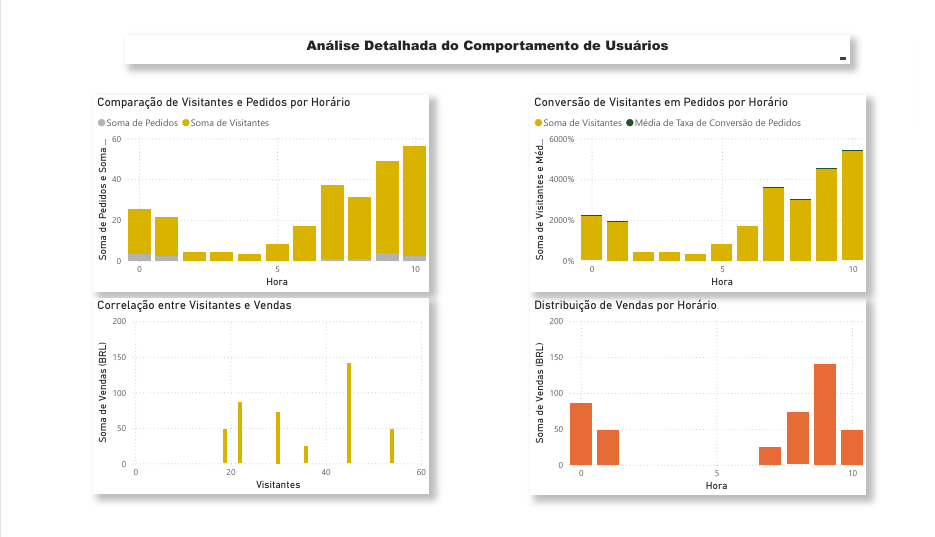

What the dashboard file says about the page in this screenshot:
{"tool":"powerbi","page":{"name":"Página 2","canvas":[1280,720],"ordinal":1},"visuals":[{"type":"columnChart","title":"Comparação de Visitantes e Pedidos por Horário","fields":{"Category":["Pedido Feito.Hora"],"Y":["Sum(Pedido Feito.Pedidos)","Sum(Pedido Feito.Visitantes)"]},"box":[107.6,113.5,478,279.3],"z":0},{"type":"columnChart","title":"Distribuição de Vendas por Horário","fields":{"Category":["Pedido Feito.Hora"],"Y":["Sum(Pedido Feito.Vendas (BRL))"]},"box":[730.5,403.3,478,279.3],"z":1000},{"type":"columnChart","title":"Correlação entre Visitantes e Vendas","fields":{"Category":["Pedido Feito.Visitantes"],"Y":["Sum(Pedido Feito.Vendas (BRL))"]},"box":[107.6,403.3,478,277.8],"z":2000},{"type":"textbox","title":"Análise Detalhada do Comportamento de Usuários","box":[152.9,28.6,1031.4,41.4],"z":3000},{"type":"columnChart","title":"Conversão de Visitantes em Pedidos por Horário","fields":{"Category":["Pedido Feito.Hora"],"Y":["Sum(Pedido Feito.Visitantes)","Avg(Pedido Feito.Taxa de Conversão de Pedidos)"]},"box":[730.5,113.5,478,279.3],"z":4000}]}

Visuals, with their boxes in screenshot pixels (x1, y1, x2, y2), scaled from the page's 1280x720 canvas onto the 935x537 screenshot:
"Comparação de Visitantes e Pedidos por Horário" columnChart: l=79, t=85, r=428, b=293
"Distribuição de Vendas por Horário" columnChart: l=534, t=301, r=883, b=509
"Correlação entre Visitantes e Vendas" columnChart: l=79, t=301, r=428, b=508
"Análise Detalhada do Comportamento de Usuários" textbox: l=112, t=21, r=865, b=52
"Conversão de Visitantes em Pedidos por Horário" columnChart: l=534, t=85, r=883, b=293
